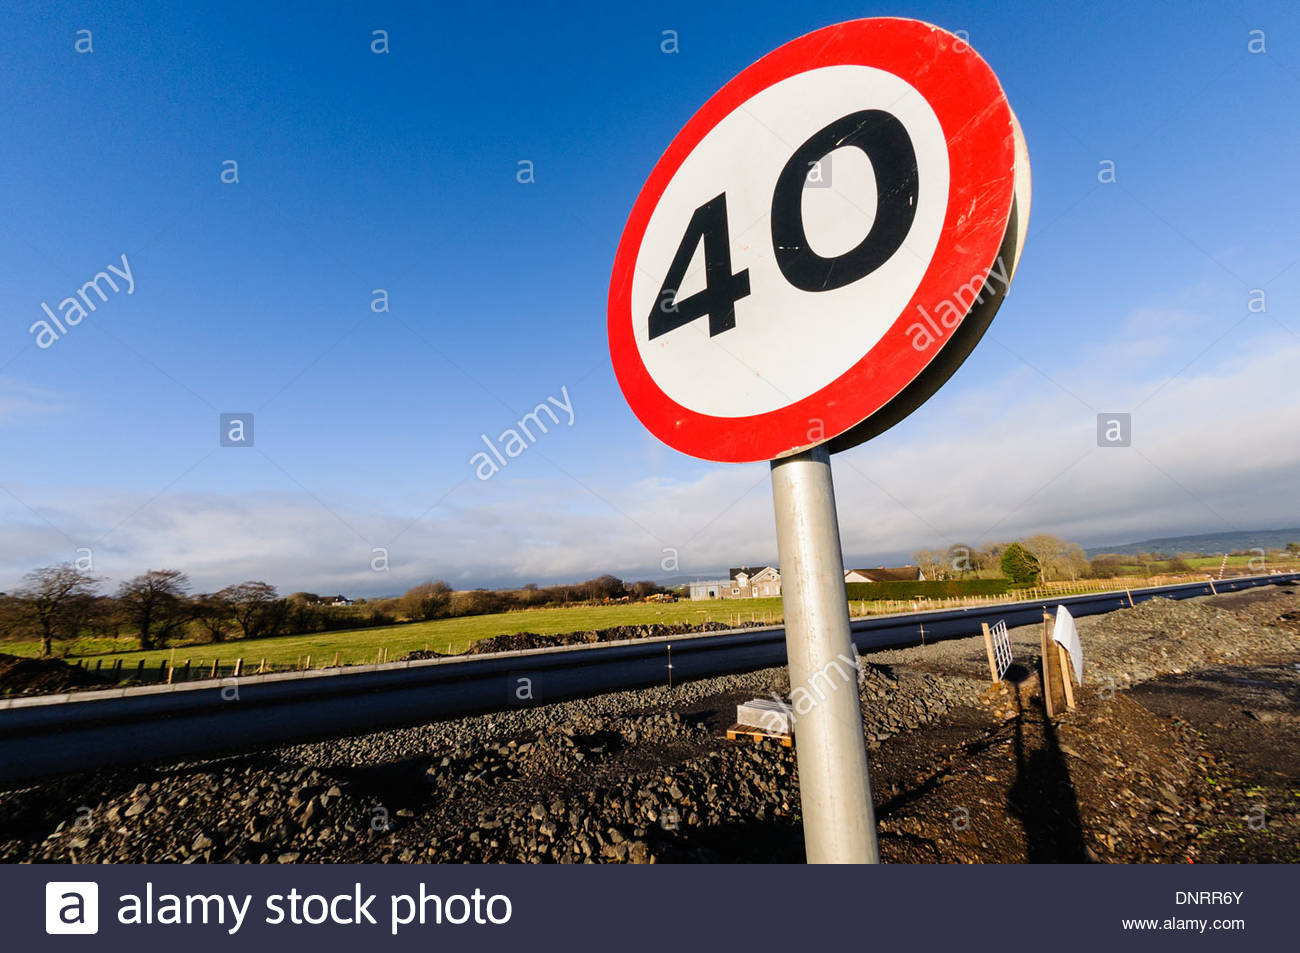Speed_limit_40km: (600, 15, 1035, 464)
